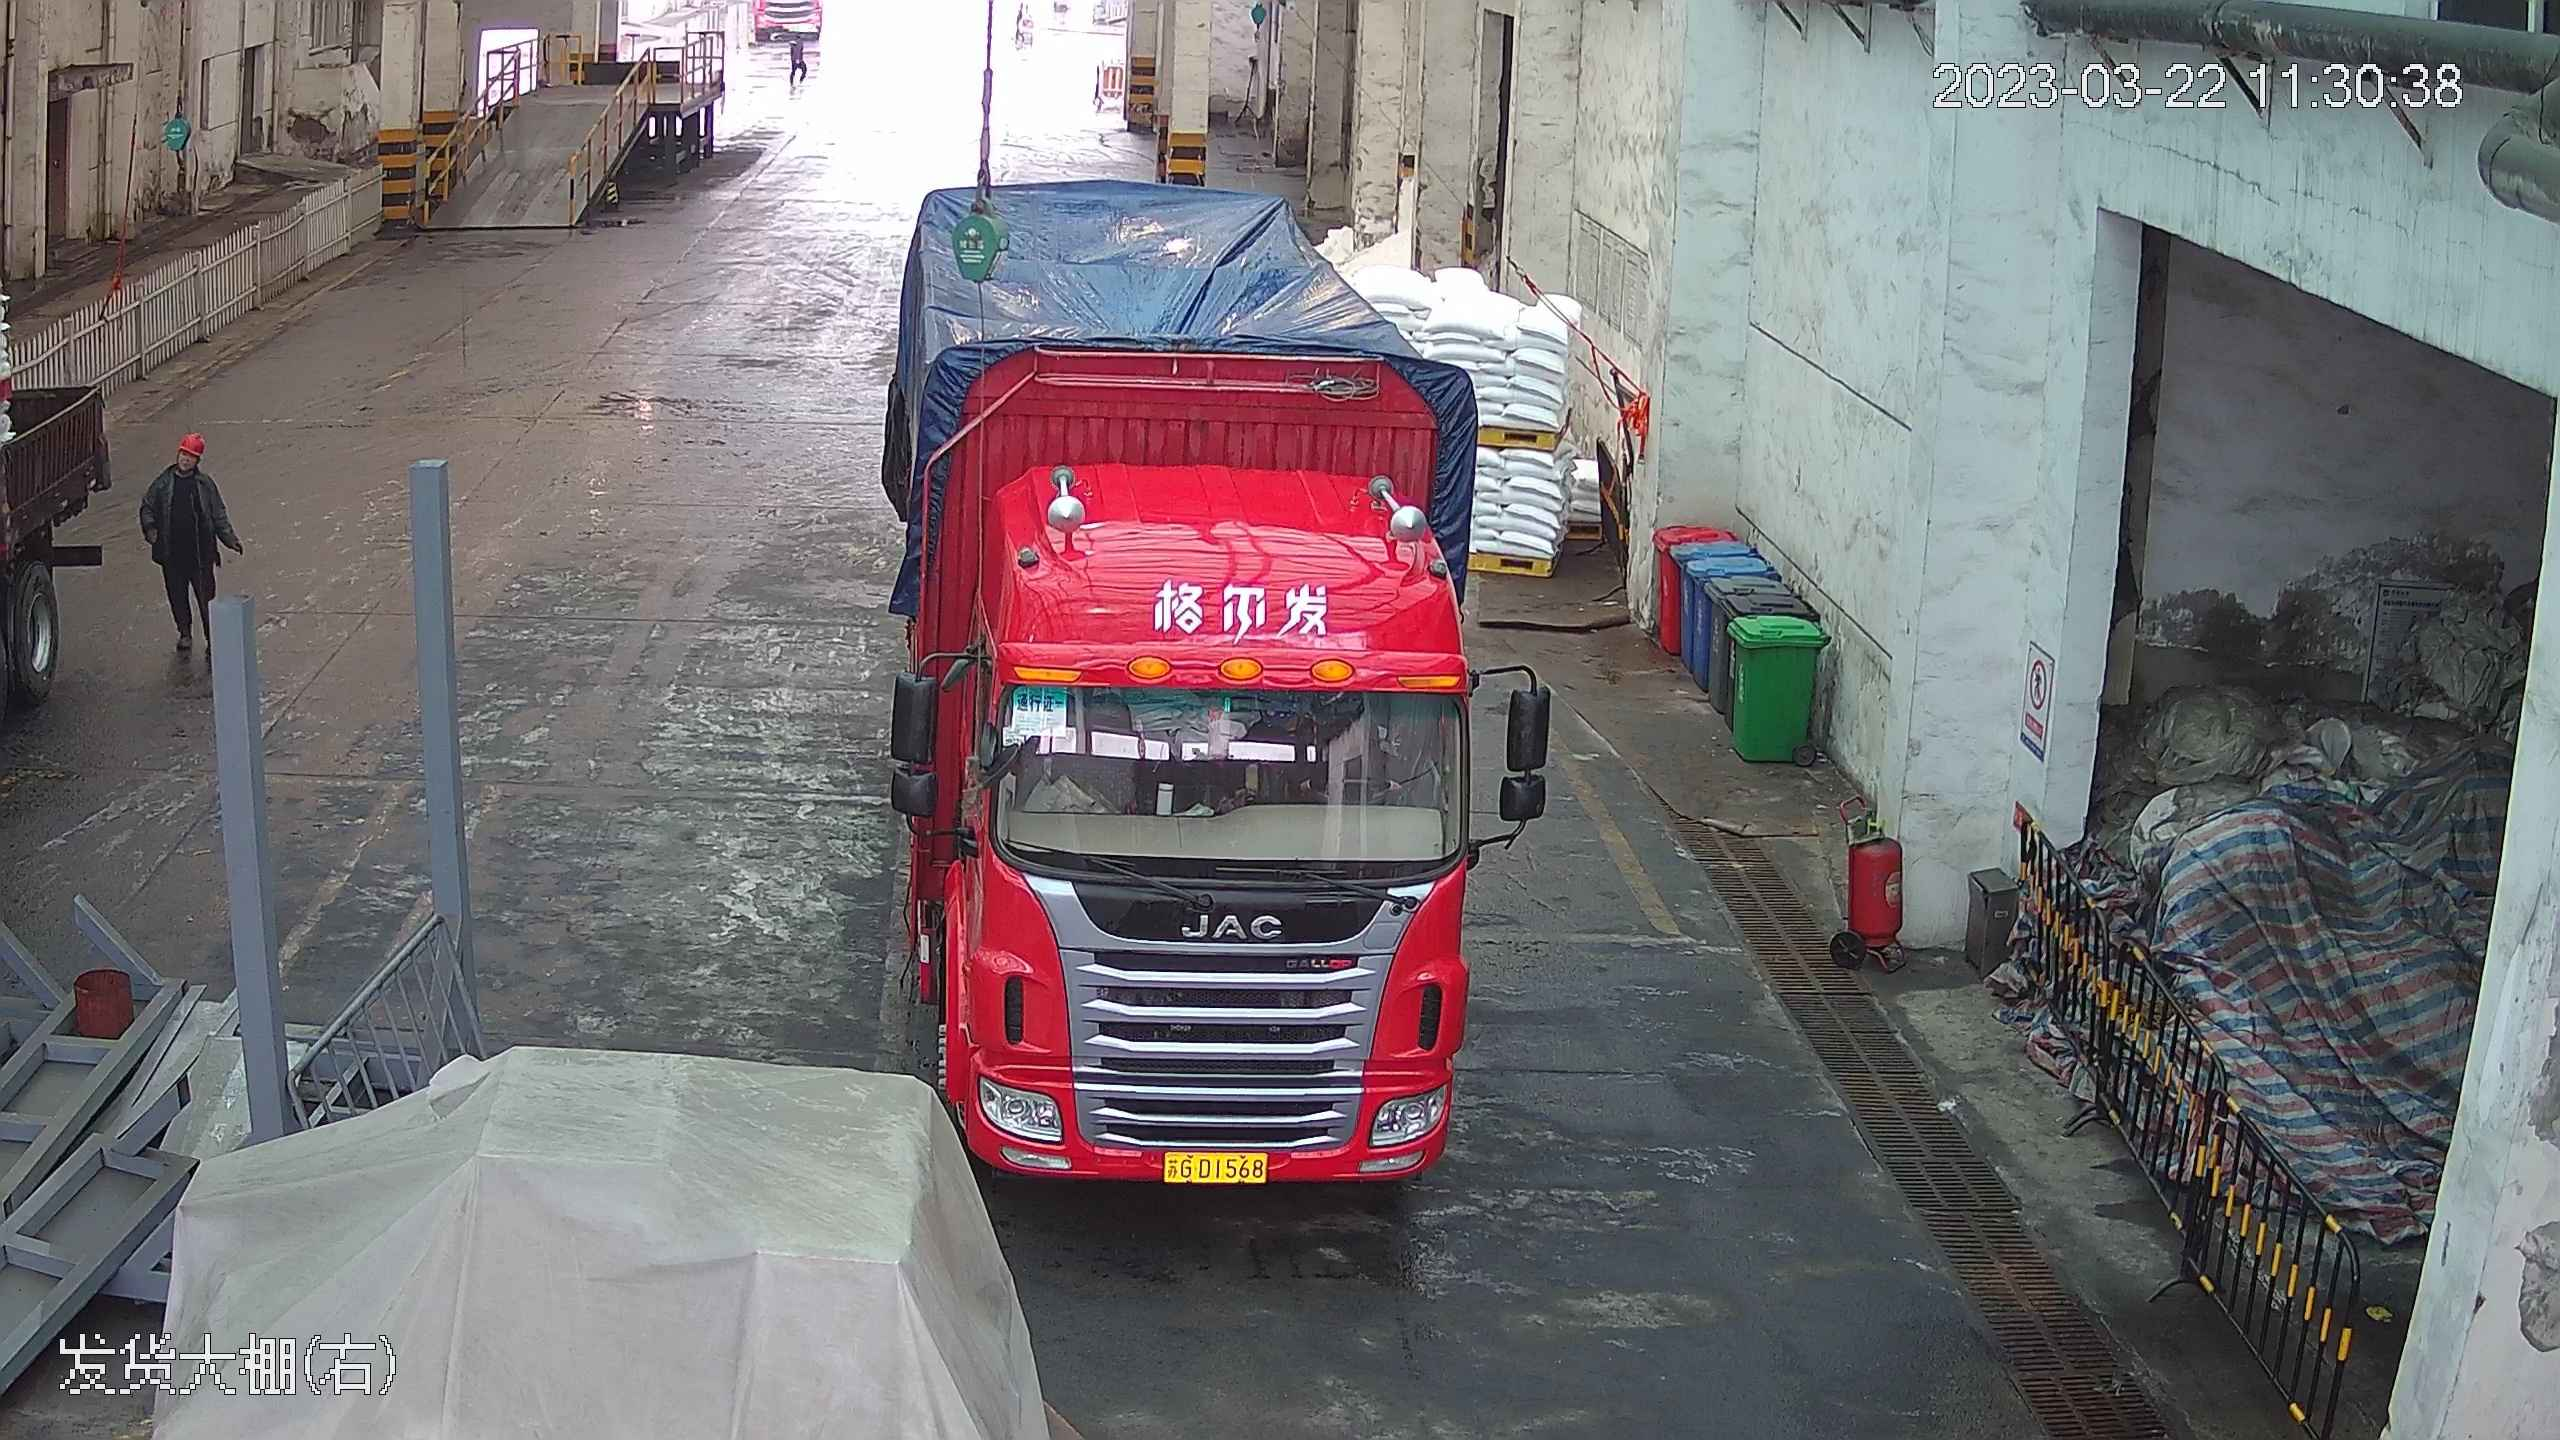head: (148, 431, 222, 504)
helmet: (171, 429, 207, 458)
people: (142, 425, 239, 675)
truck: (859, 131, 1534, 1218)
